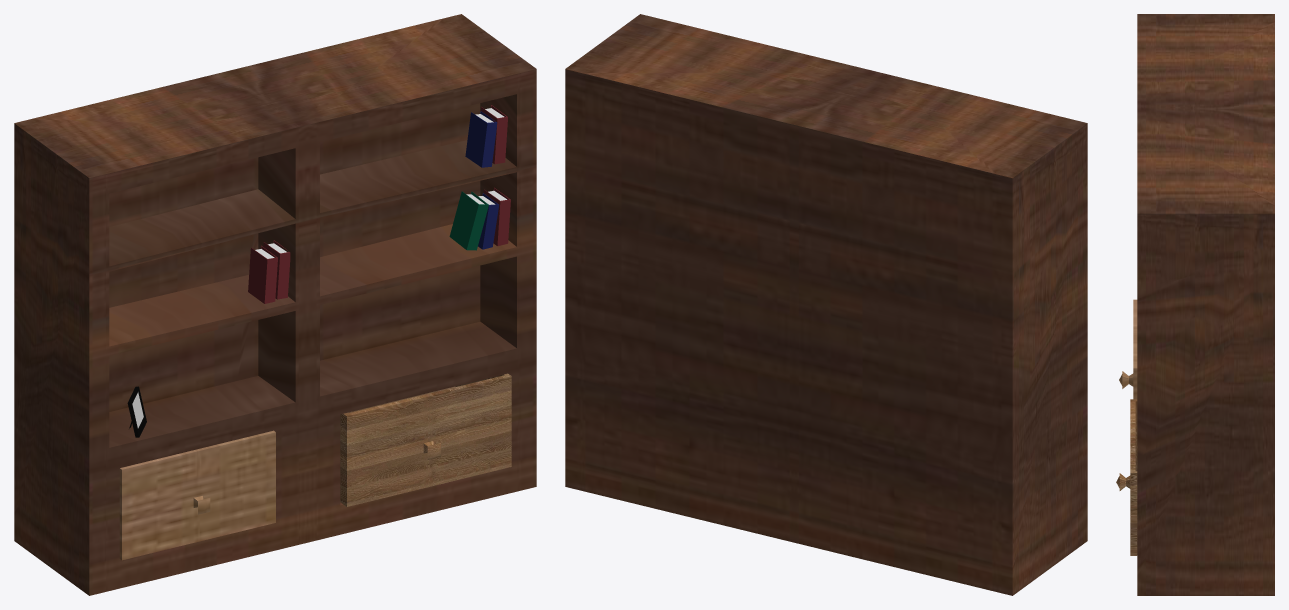
The model's file is BookCase.fbx.
The picture shows the model from 3 angles, left to right: view 1: azimuth 30°, elevation 25°; view 2: azimuth 150°, elevation 25°; view 3: azimuth 270°, elevation 25°; orthographic projection. The views are drawn at different scales.
Visible parts, largest first — view 1: BookCase, BookCase.001, BookCase.002, Book1.004, Book1.012, Book1.008, Book1, Book1.010, Book1.006; view 2: BookCase; view 3: BookCase, BookCase.001, BookCase.002.
Boxes of the visible parts, bbox=[...] form: BookCase: bbox=[14, 14, 536, 595]; BookCase.001: bbox=[340, 373, 511, 506]; BookCase.002: bbox=[119, 430, 275, 560]; Book1.004: bbox=[449, 191, 488, 250]; Book1.012: bbox=[248, 245, 277, 303]; Book1.008: bbox=[465, 111, 497, 167]; Book1: bbox=[483, 187, 510, 246]; Book1.010: bbox=[263, 240, 290, 299]; Book1.006: bbox=[480, 105, 507, 164]; BookCase: bbox=[565, 14, 1087, 595]; BookCase: bbox=[1137, 14, 1274, 595]; BookCase.001: bbox=[1116, 399, 1137, 555]; BookCase.002: bbox=[1119, 299, 1137, 399].
Bounding box in the file's own units: 485 × 432 × 163.
Materials: 7 (2 with a texture image).
